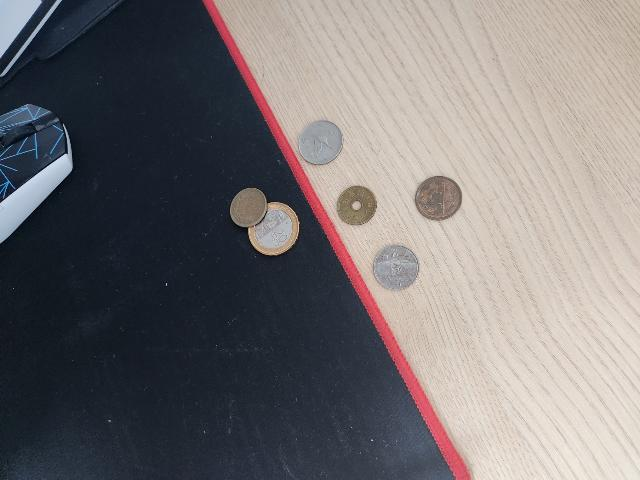coin: (249, 202, 299, 256), (373, 244, 421, 292), (415, 174, 461, 220), (298, 119, 342, 165), (230, 187, 268, 227), (339, 184, 375, 224)
